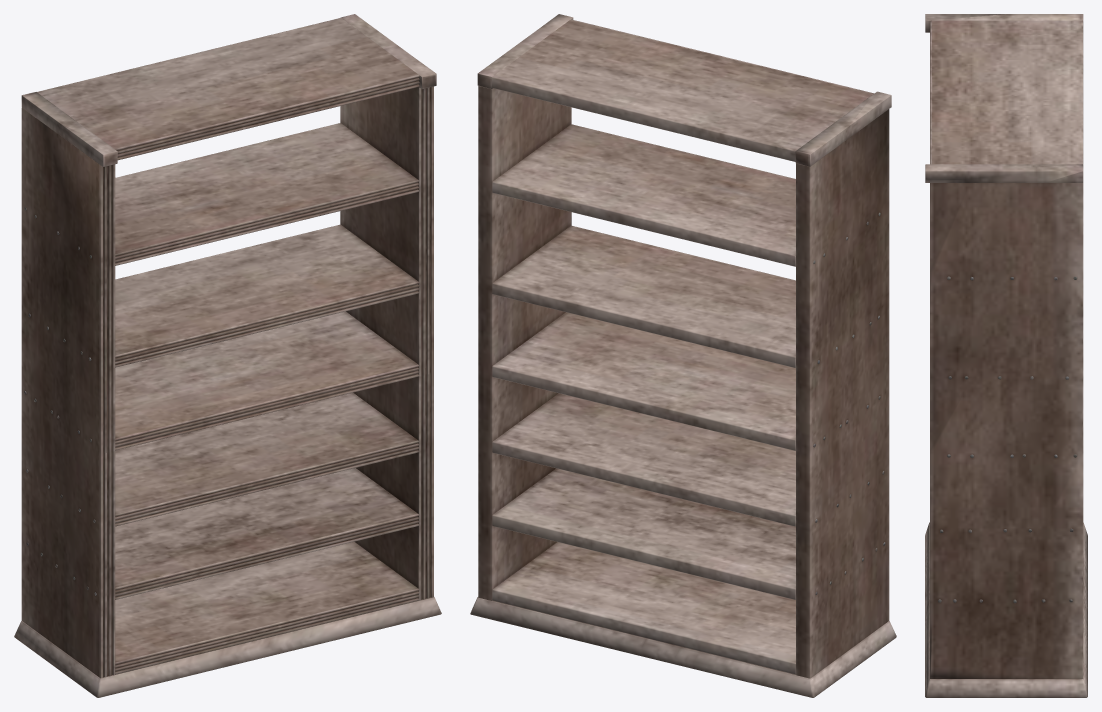
Rendered from bookshelf_worn.glb.
The picture shows the model from 3 angles, left to right: view 1: azimuth 30°, elevation 25°; view 2: azimuth 150°, elevation 25°; view 3: azimuth 270°, elevation 25°; orthographic projection. The views are drawn at different scales.
Parts seen in each view (by area): view 1: wooden_bookshelf_worn; view 2: wooden_bookshelf_worn; view 3: wooden_bookshelf_worn.
Boxes of the visible parts, x1=… form: wooden_bookshelf_worn: x1=14, y1=14, x2=441, y2=697; wooden_bookshelf_worn: x1=470, y1=14, x2=896, y2=697; wooden_bookshelf_worn: x1=925, y1=14, x2=1087, y2=697.
Size of the model in its own units: 1.37 by 2.06 by 0.5814.
1 material, 1 textured.
